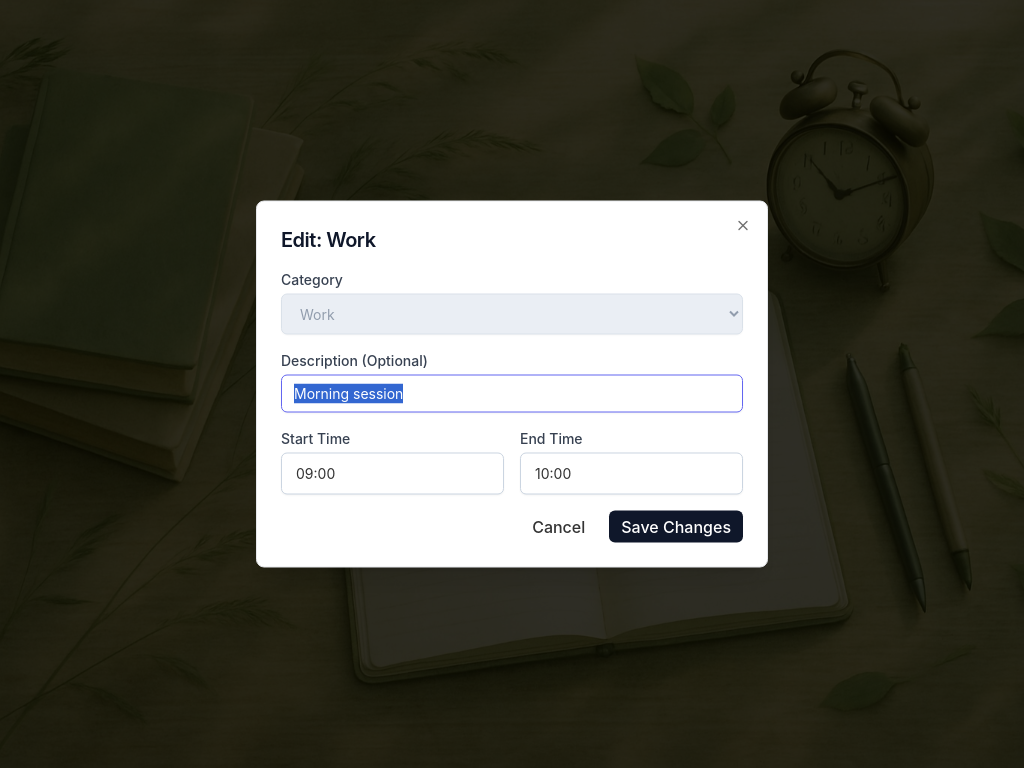
TimeWindowModal › Edit Mode › shows error if end time is not after start time in edit mode
Replace the text in the field labelled "Start Time" with "10:00" at point(392, 474), box [281, 452, 504, 494]
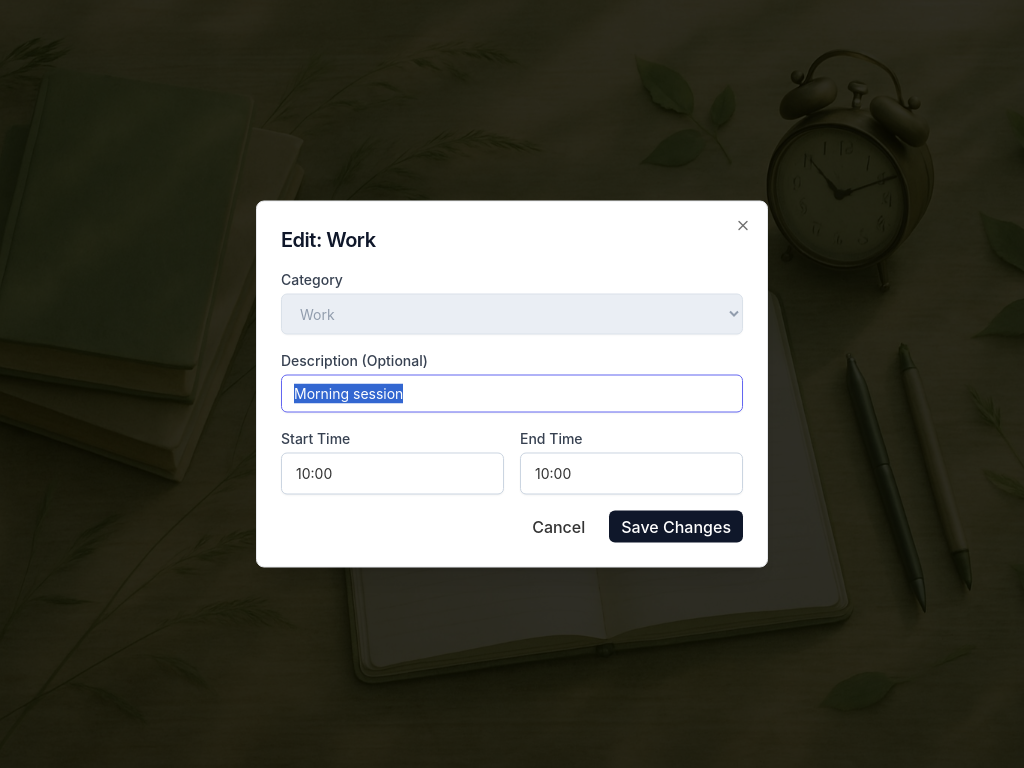
Replace the text in the field labelled "End Time" with "09:00" at point(632, 474), box [520, 452, 743, 494]
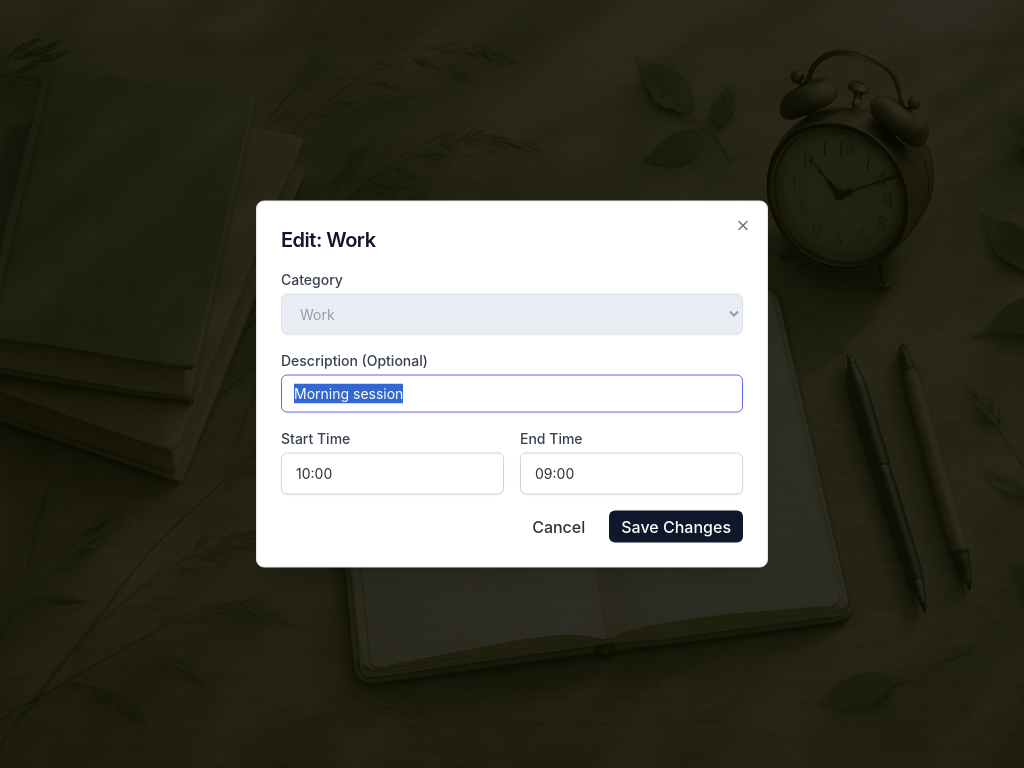
Click the button "Save Changes" at point(676, 526), box [609, 510, 743, 542]
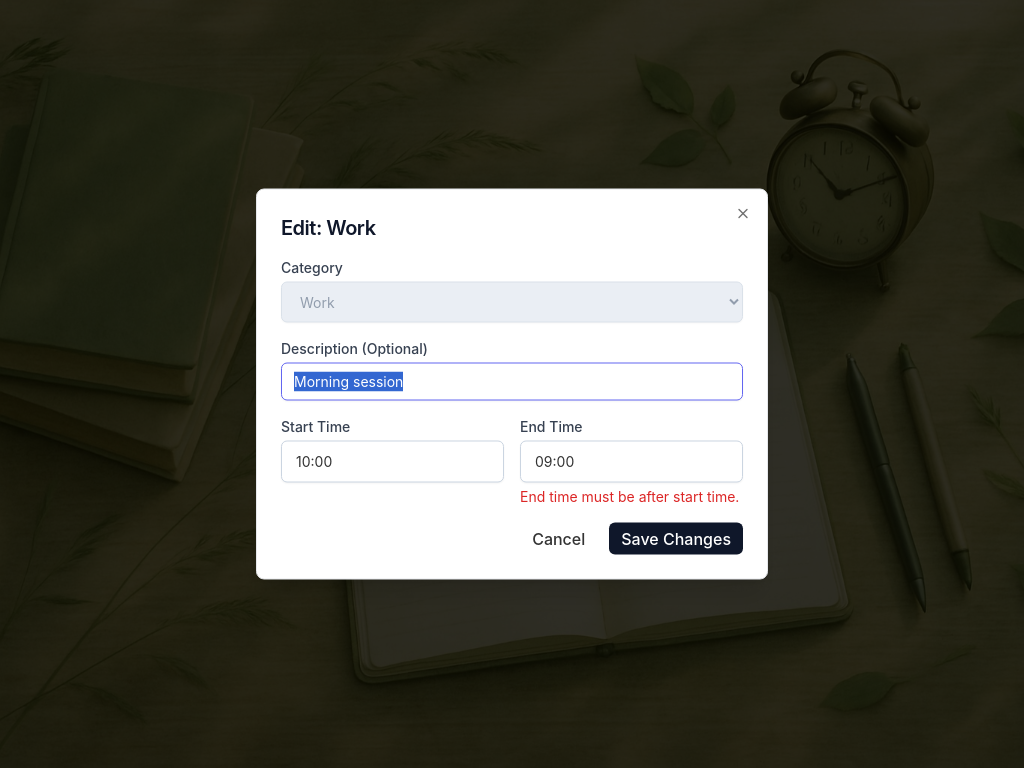
Now the text "End time must be after start time." is shown, box [520, 486, 743, 506]
